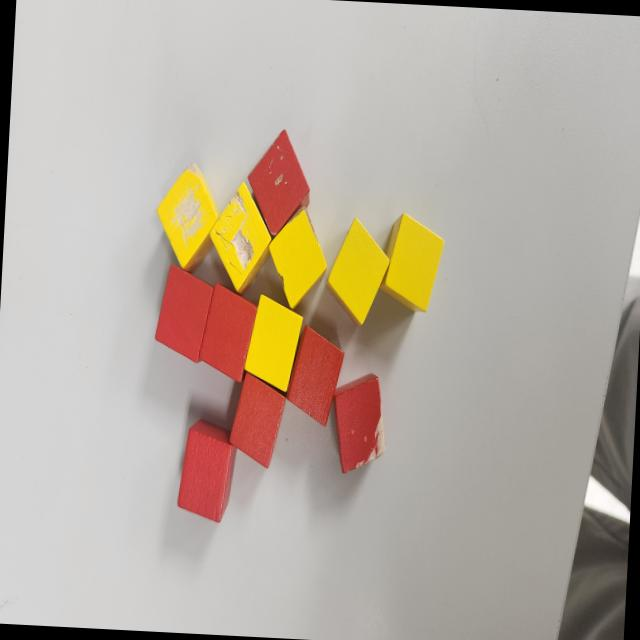broken: (244, 126, 314, 240), (208, 182, 276, 298), (154, 162, 223, 276), (264, 205, 329, 314), (328, 368, 388, 480)
red: (176, 414, 240, 528), (284, 322, 346, 430), (227, 369, 290, 474), (198, 278, 259, 386), (153, 262, 215, 368)
yellow: (323, 214, 392, 330), (379, 210, 446, 318), (242, 290, 305, 396)
